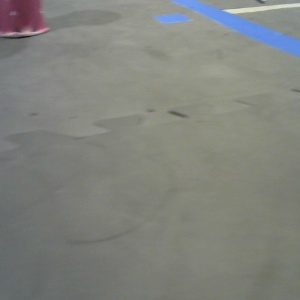Right: (193, 1, 275, 101)
